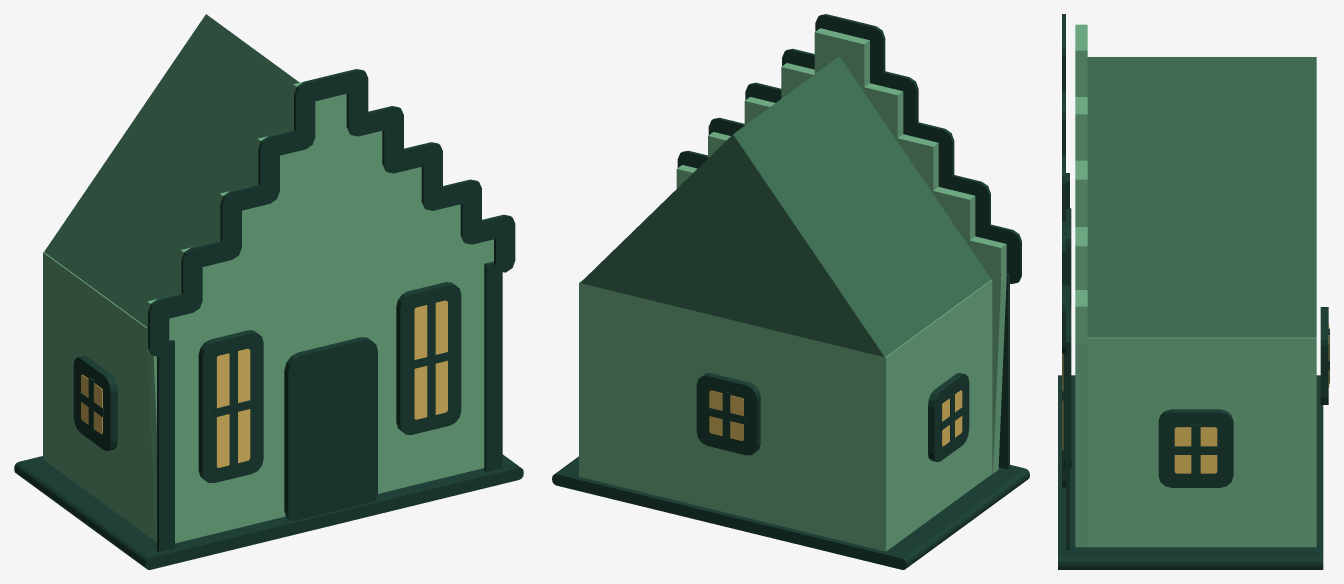
The model's file is variant-08.glb.
3 views of the same model, side by side, from view 1: azimuth 30°, elevation 25°; view 2: azimuth 150°, elevation 25°; view 3: azimuth 270°, elevation 25° (orthographic). The views are drawn at different scales.
Visible parts, largest first — view 1: Step gable; view 2: Step gable; view 3: Step gable.
Part boxes in pixels (x1,y1,x2,y2): Step gable: [14, 14, 523, 569]; Step gable: [552, 14, 1029, 569]; Step gable: [1058, 14, 1329, 569].
Size of the model in its own units: 0.94 by 1.06 by 0.58.
